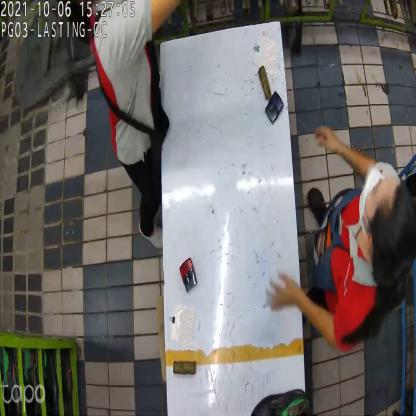stamp: (264, 93, 286, 125), (181, 256, 198, 295)
